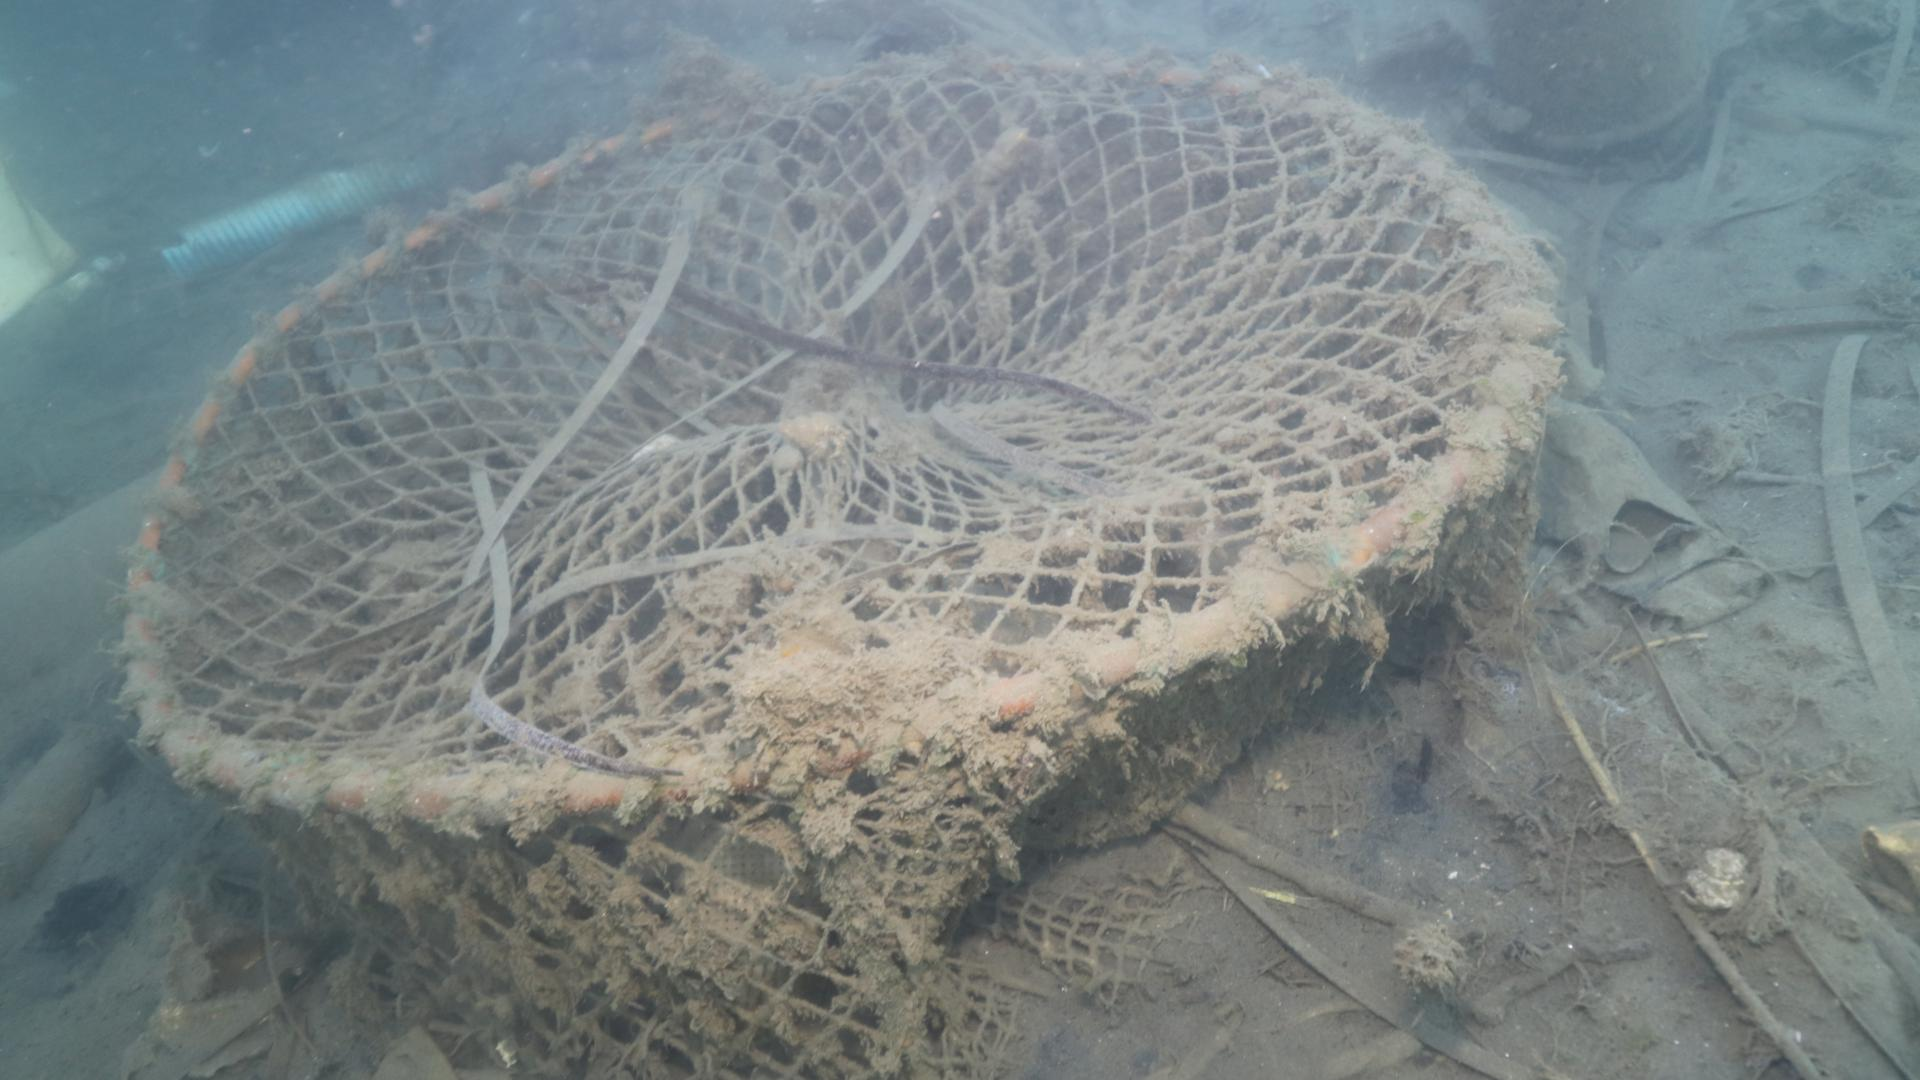circular fish trap: (112, 44, 1563, 1080)
